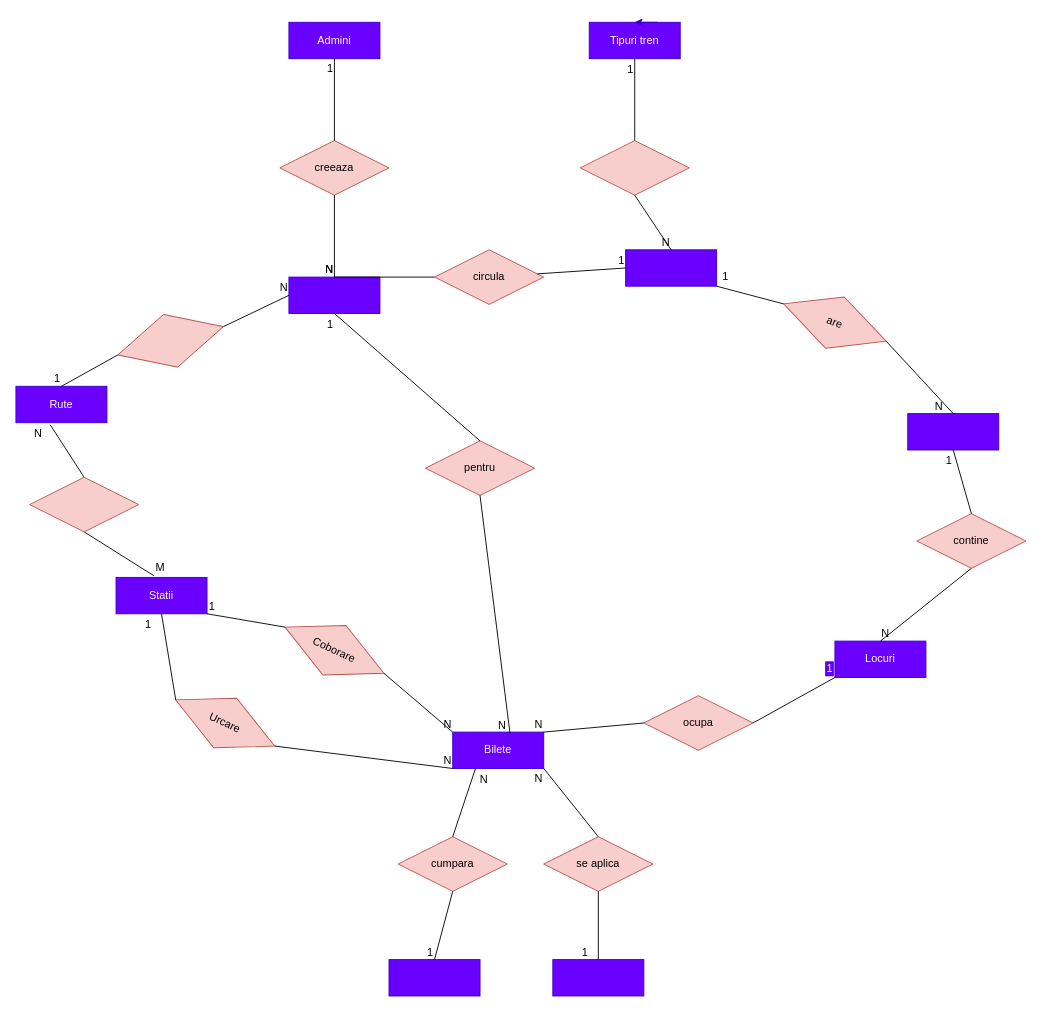
Some shapes in this 1042 by 1012 pixel diagram are drawn without their labels. Each missing label, with the centre of its shape:
Clienti: (434,977)
Curse: (334,294)
opreste in: (84,504)
parcurge: (170,340)
Reduceri: (598,977)
se clasifica: (634,167)
Tren: (671,267)
Vagoane: (953,431)
